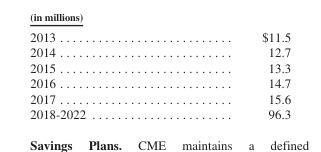table: (29, 29, 290, 121)
table column: (29, 29, 173, 121), (173, 29, 290, 121)
table row: (29, 59, 290, 75), (29, 90, 290, 106), (29, 29, 290, 44), (29, 44, 290, 59), (29, 75, 290, 90), (29, 106, 290, 121)
